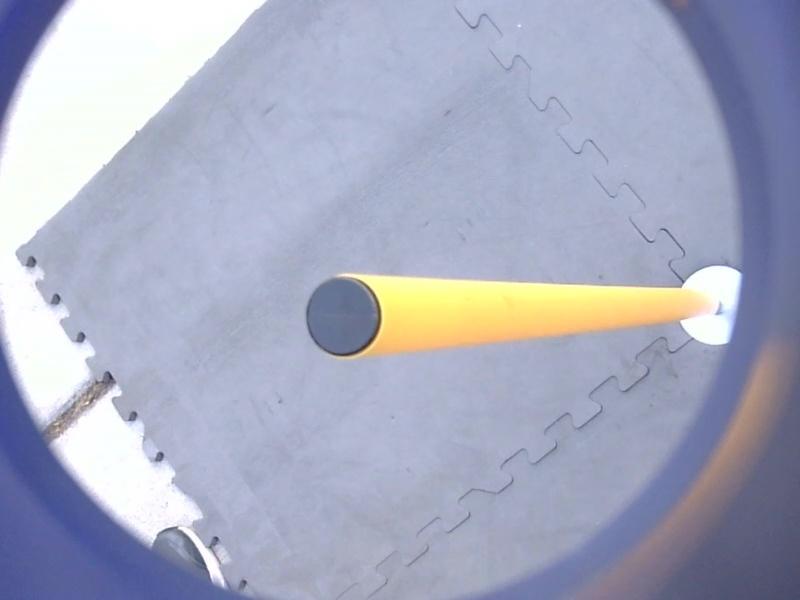tip: (300, 269, 389, 365)
